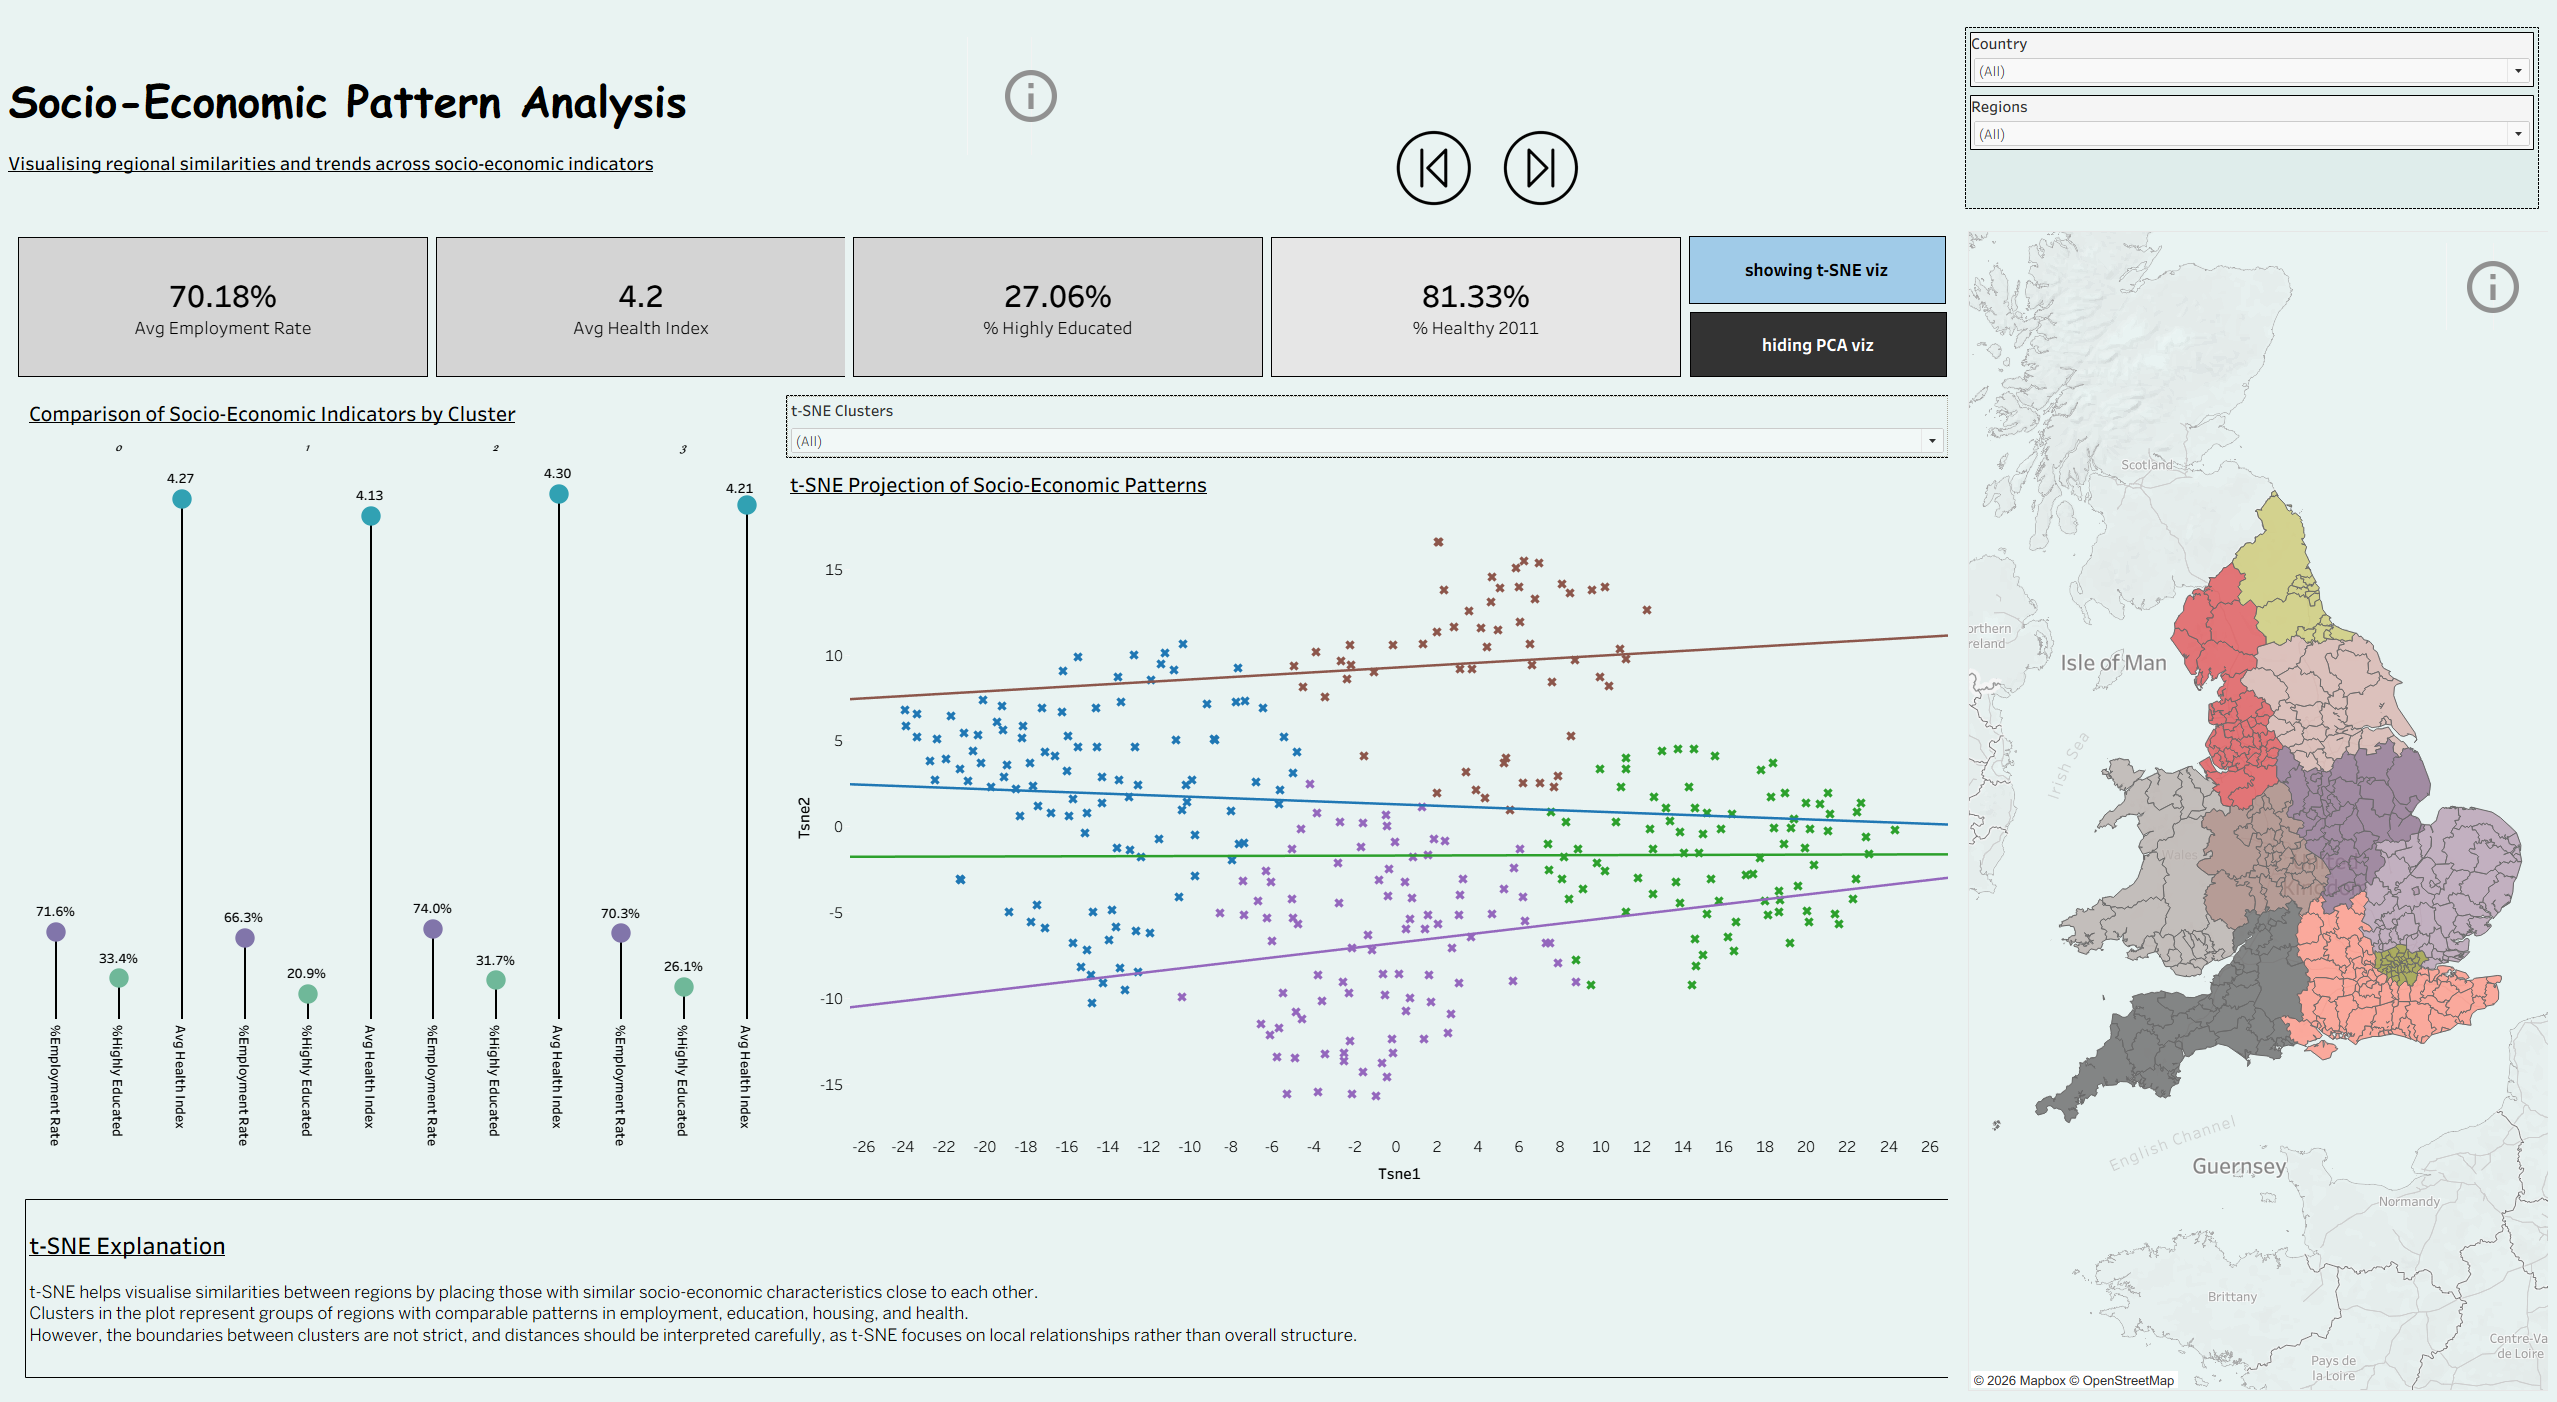

The page's visual inventory and layout, read from the dashboard file:
{"tool":"tableau","page":{"name":"Projections","canvas":[1000,1000],"units":"permille","ordinal":2},"visuals":[{"type":"text","box":[2,14.8,995.5,145.4]},{"type":"filter","title":"uk map (for aoverview and projection)","param":"[federated.1a80vjf1ezh7yy1eq0o840h0tbf4].[none:Calculation_952792859709722624:nk","box":[768.1,20.3,223.4,61.8]},{"type":"worksheet","title":"info icon sheet (for desc. of second dashboard)","mark":"Shape","cols":["Calculation_1832402163825782784"],"box":[377.9,26.6,49.9,84]},{"type":"dashboard-object","box":[538.9,81.5,35.3,75.9]},{"type":"dashboard-object","box":[574.2,81.5,35.3,75.9]},{"type":"filter","title":"uk map (for aoverview and projection)","param":"[federated.1a80vjf1ezh7yy1eq0o840h0tbf4].[none:Regions:nk]","box":[768.1,82,223.4,61.8]},{"type":"worksheet","title":"uk map (for aoverview and projection)","mark":"Multipolygon","box":[768.7,164.8,226.8,826.9]},{"type":"worksheet","title":"employment kpi (1,2)","mark":"Text","box":[5.6,165.7,163.1,105.6]},{"type":"worksheet","title":"Health Index KPI (1,2)","mark":"Text","box":[168.7,165.7,163.1,105.6]},{"type":"worksheet","title":"Highly educated pct kpi","mark":"Text","box":[331.8,165.7,163.1,105.6]},{"type":"worksheet","title":"healthy pct 2011 kpi (1,2)","mark":"Text","box":[494.9,165.7,163.1,105.6]},{"type":"dashboard-object","box":[659.6,168.5,100.5,48.1]},{"type":"worksheet","title":"info icon sheet (for first and second ds)","mark":"Shape","cols":["Calculation_1832402163825782784"],"box":[955.6,173.2,36.9,62]},{"type":"dashboard-object","box":[660.1,222.2,100.5,46.3]},{"type":"worksheet","title":"pca cluster analysis (2)","mark":"Circle","rows":["employment_rate_2011","pct_healthy_2011"],"cols":["PCA1","PCA2"],"box":[8.6,275.9,335.1,522.6]},{"type":"filter","title":"uk map (for aoverview and projection)","param":"[federated.1a80vjf1ezh7yy1eq0o840h0tbf4].[none:Clusters on PCA:ok]","box":[343.6,275.9,416.5,61.8]},{"type":"worksheet","title":"tsne cluster analysis (2)","mark":"Automatic","cols":["Clustering on TSNE"],"box":[8.1,278.7,301.7,546.1]},{"type":"filter","title":"tsne (2)","param":"[federated.1a80vjf1ezh7yy1eq0o840h0tbf4].[none:Clustering on TSNE:ok]","box":[309.8,278.7,452.8,68.6]},{"type":"worksheet","title":"pca (2)","mark":"Circle","rows":["PCA2"],"cols":["PCA1"],"box":[343.6,337.7,416.5,460.9]},{"type":"worksheet","title":"tsne (2)","mark":"Shape","rows":["TSNE2"],"cols":["TSNE1"],"box":[309.8,347.3,452.8,477.5]},{"type":"text","box":[8.6,798.6,751.5,191.2]},{"type":"text","box":[8.1,824.8,754.6,160.4]}]}

Visuals, with their boxes on the dashboard's canvas, which has no fixed pixel size, in thousandths of its width and height (x1, y1, x2, y2). These are canvas units, not pixel positions in the 2557x1402 screenshot, which may show the page scaled, cropped or inside an application window:
text: box(2, 15, 998, 160)
"uk map (for aoverview and projection)" filter: box(768, 20, 992, 82)
"info icon sheet (for desc. of second dashboard)" worksheet (Shape marks): box(378, 27, 428, 111)
dashboard-object: box(539, 82, 574, 157)
dashboard-object: box(574, 82, 610, 157)
"uk map (for aoverview and projection)" filter: box(768, 82, 992, 144)
"uk map (for aoverview and projection)" worksheet (Multipolygon marks): box(769, 165, 996, 992)
"employment kpi (1,2)" worksheet (Text marks): box(6, 166, 169, 271)
"Health Index KPI (1,2)" worksheet (Text marks): box(169, 166, 332, 271)
"Highly educated pct kpi" worksheet (Text marks): box(332, 166, 495, 271)
"healthy pct 2011 kpi (1,2)" worksheet (Text marks): box(495, 166, 658, 271)
dashboard-object: box(660, 168, 760, 217)
"info icon sheet (for first and second ds)" worksheet (Shape marks): box(956, 173, 992, 235)
dashboard-object: box(660, 222, 761, 268)
"pca cluster analysis (2)" worksheet (Circle marks): box(9, 276, 344, 798)
"uk map (for aoverview and projection)" filter: box(344, 276, 760, 338)
"tsne cluster analysis (2)" worksheet: box(8, 279, 310, 825)
"tsne (2)" filter: box(310, 279, 763, 347)
"pca (2)" worksheet (Circle marks): box(344, 338, 760, 799)
"tsne (2)" worksheet (Shape marks): box(310, 347, 763, 825)
text: box(9, 799, 760, 990)
text: box(8, 825, 763, 985)
